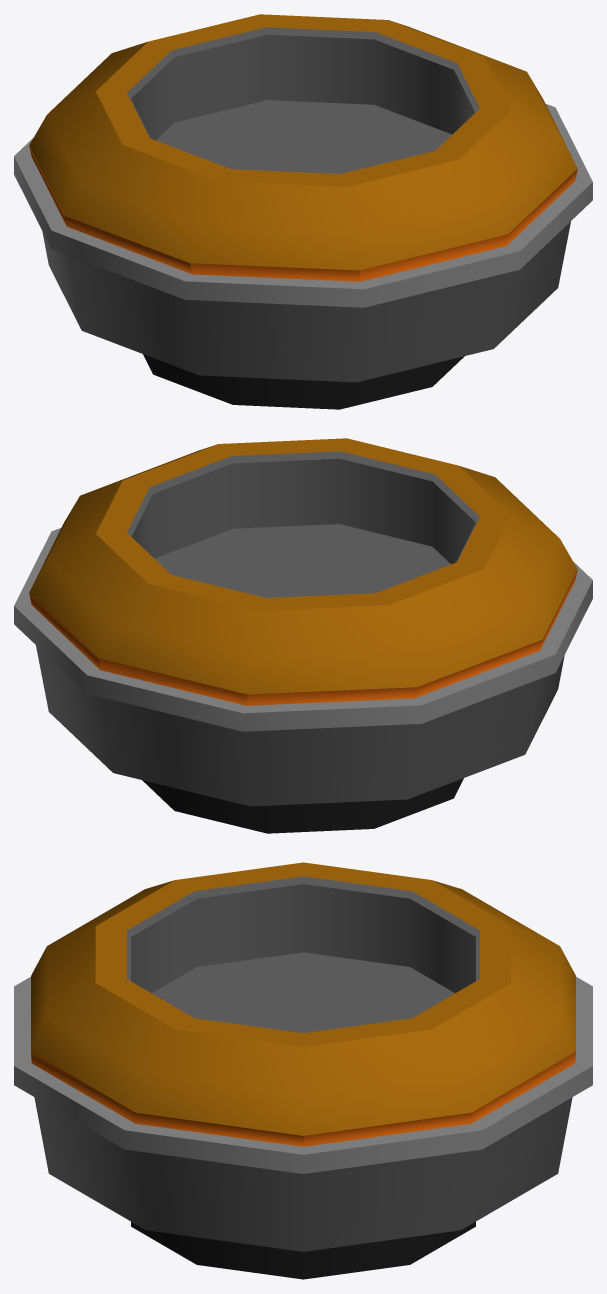
Rendered from SM_Modifier_Yellow.fbx.
3 renders of one model, top to bottom at view 1: azimuth 30°, elevation 25°; view 2: azimuth 150°, elevation 25°; view 3: azimuth 270°, elevation 25°, orthographic. The views are drawn at different scales.
Parts seen in each view (by area): view 1: SM_Modifier_Yellow; view 2: SM_Modifier_Yellow; view 3: SM_Modifier_Yellow.
Boxes of the visible parts, x1,y1,x2,y2 form: SM_Modifier_Yellow: (14,14,592,409); SM_Modifier_Yellow: (14,438,592,833); SM_Modifier_Yellow: (14,862,592,1279).
Bounding box in the file's own units: 2.27 × 1.02 × 2.16.
